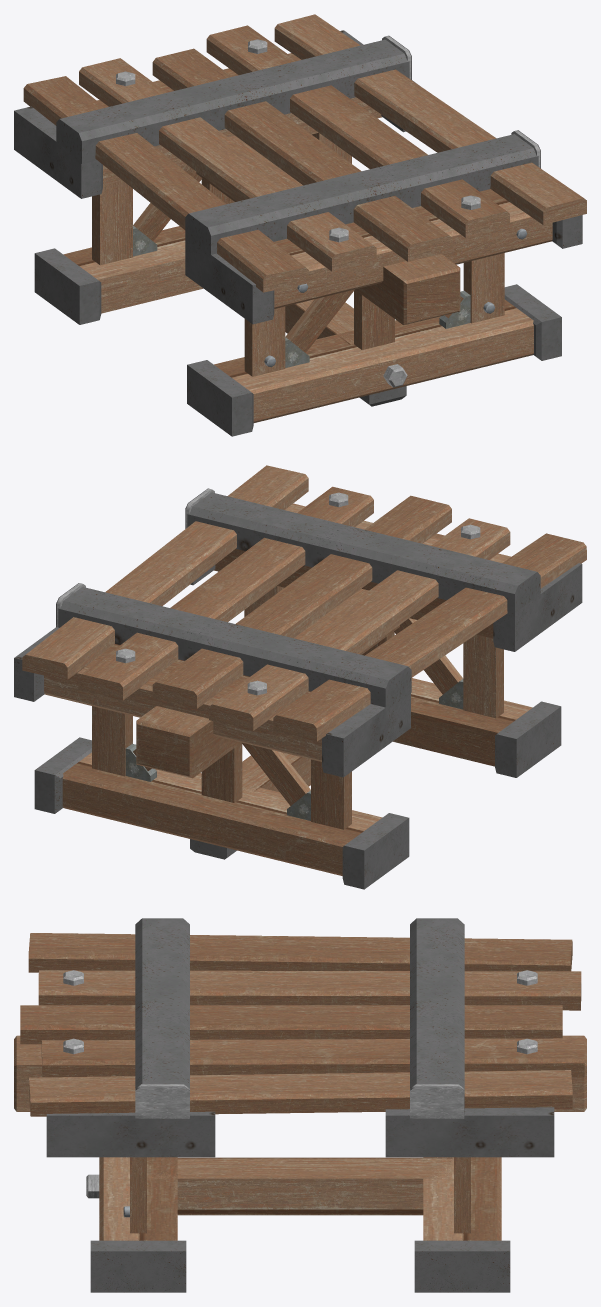
The model's file is Ob_StationRailroad_RC.fbx.
3 renders of one model, top to bottom at view 1: azimuth 30°, elevation 25°; view 2: azimuth 150°, elevation 25°; view 3: azimuth 270°, elevation 25°, orthographic. The views are drawn at different scales.
Visible parts, largest first — view 1: Ob_StationRailroad_RC; view 2: Ob_StationRailroad_RC; view 3: Ob_StationRailroad_RC.
Part boxes in pixels (x1,y1,x2,y2): Ob_StationRailroad_RC: [14, 14, 586, 436]; Ob_StationRailroad_RC: [14, 465, 586, 889]; Ob_StationRailroad_RC: [14, 918, 586, 1292].
Bounding box in the file's own units: 500 × 302 × 707.
